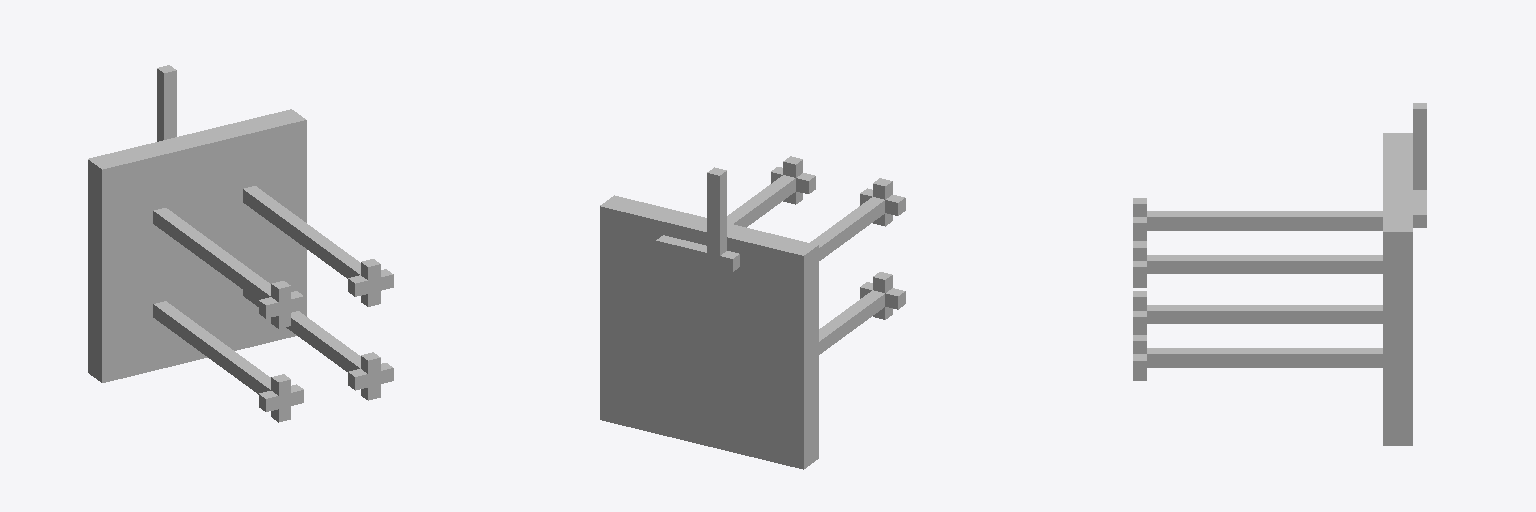
Rendered from reinforcement_low.obj.
3 renders of one model, left to right at view 1: azimuth 30°, elevation 25°; view 2: azimuth 150°, elevation 25°; view 3: azimuth 270°, elevation 25°, orthographic.
Parts seen in each view (by area): view 1: cube; view 2: cube; view 3: cube.
Part boxes in pixels (x1,y1,x2,y2): cube: (88, 65, 393, 422); cube: (600, 156, 905, 469); cube: (1133, 103, 1426, 445).
Size of the model in its own units: 1 by 1.31 by 1.25.